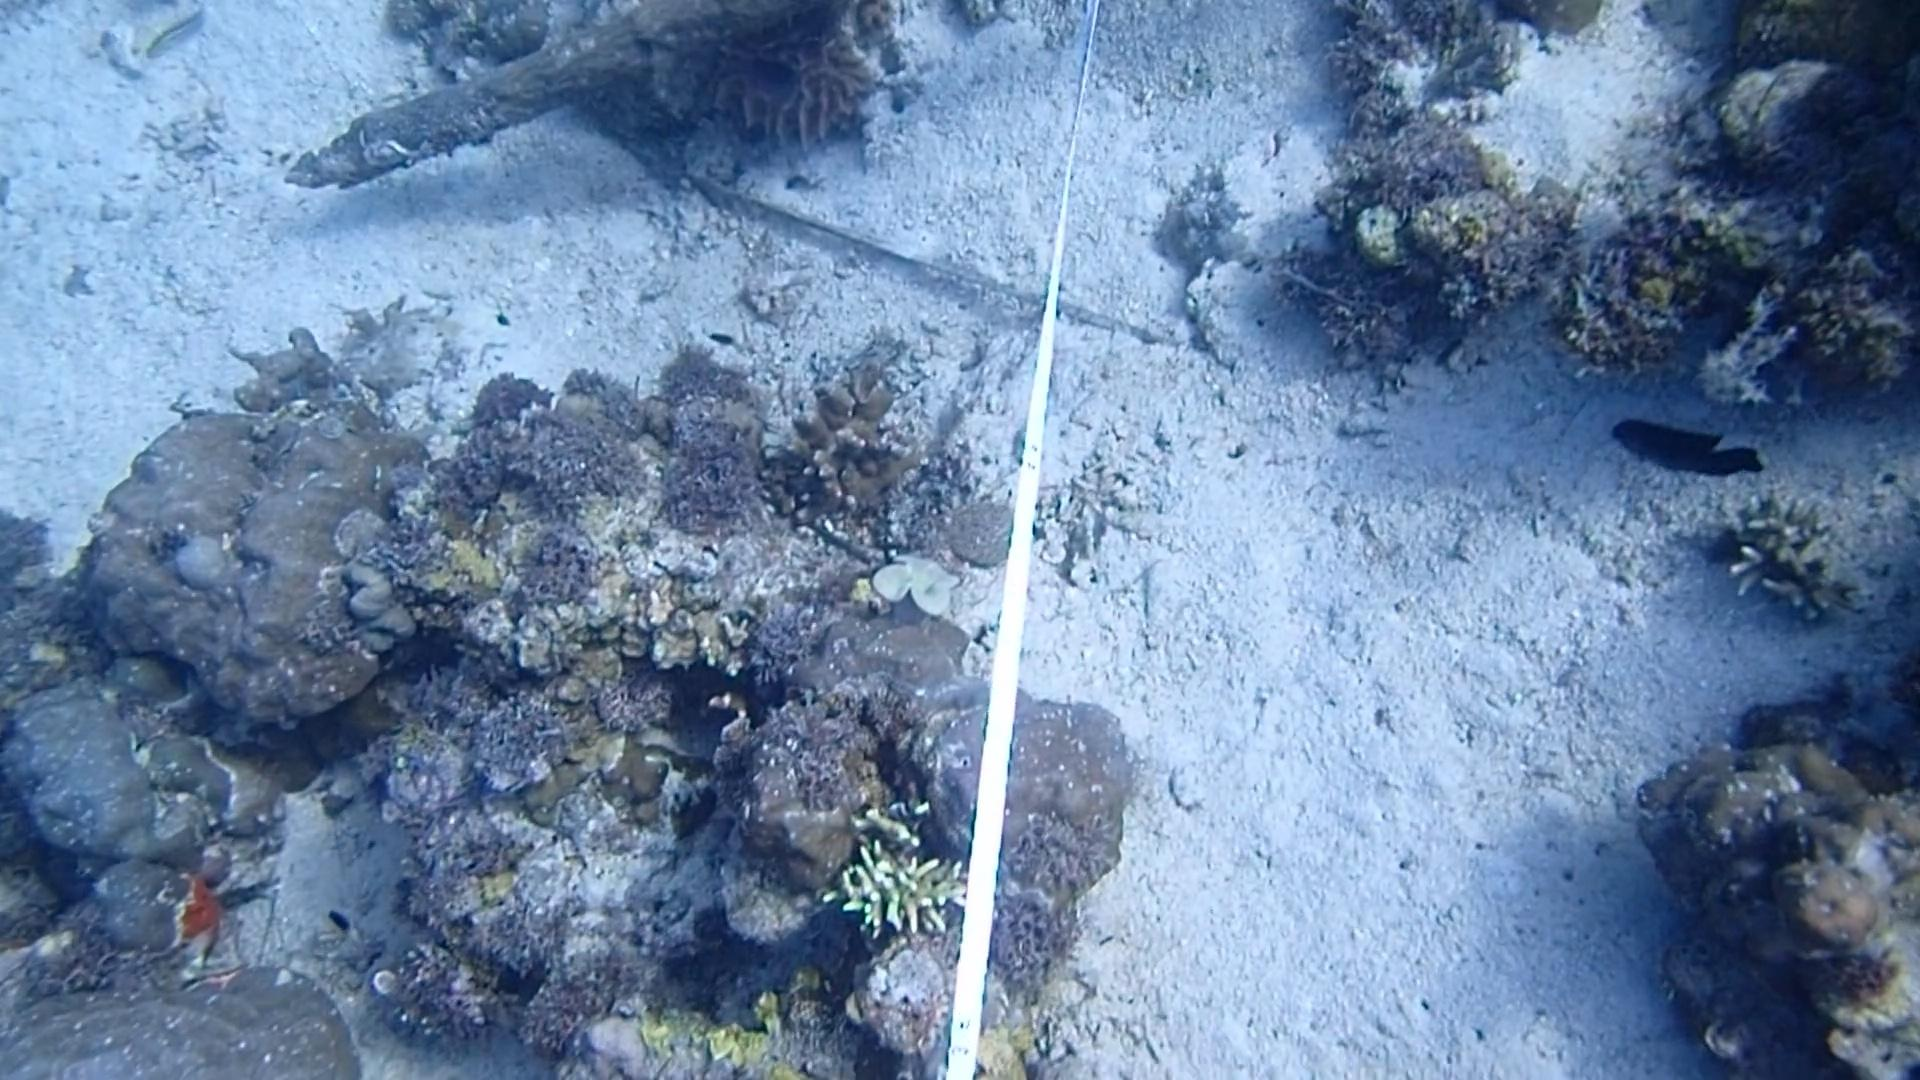Dark Fish: (1604, 405, 1768, 488)
Striped Fish: (129, 3, 219, 70)
